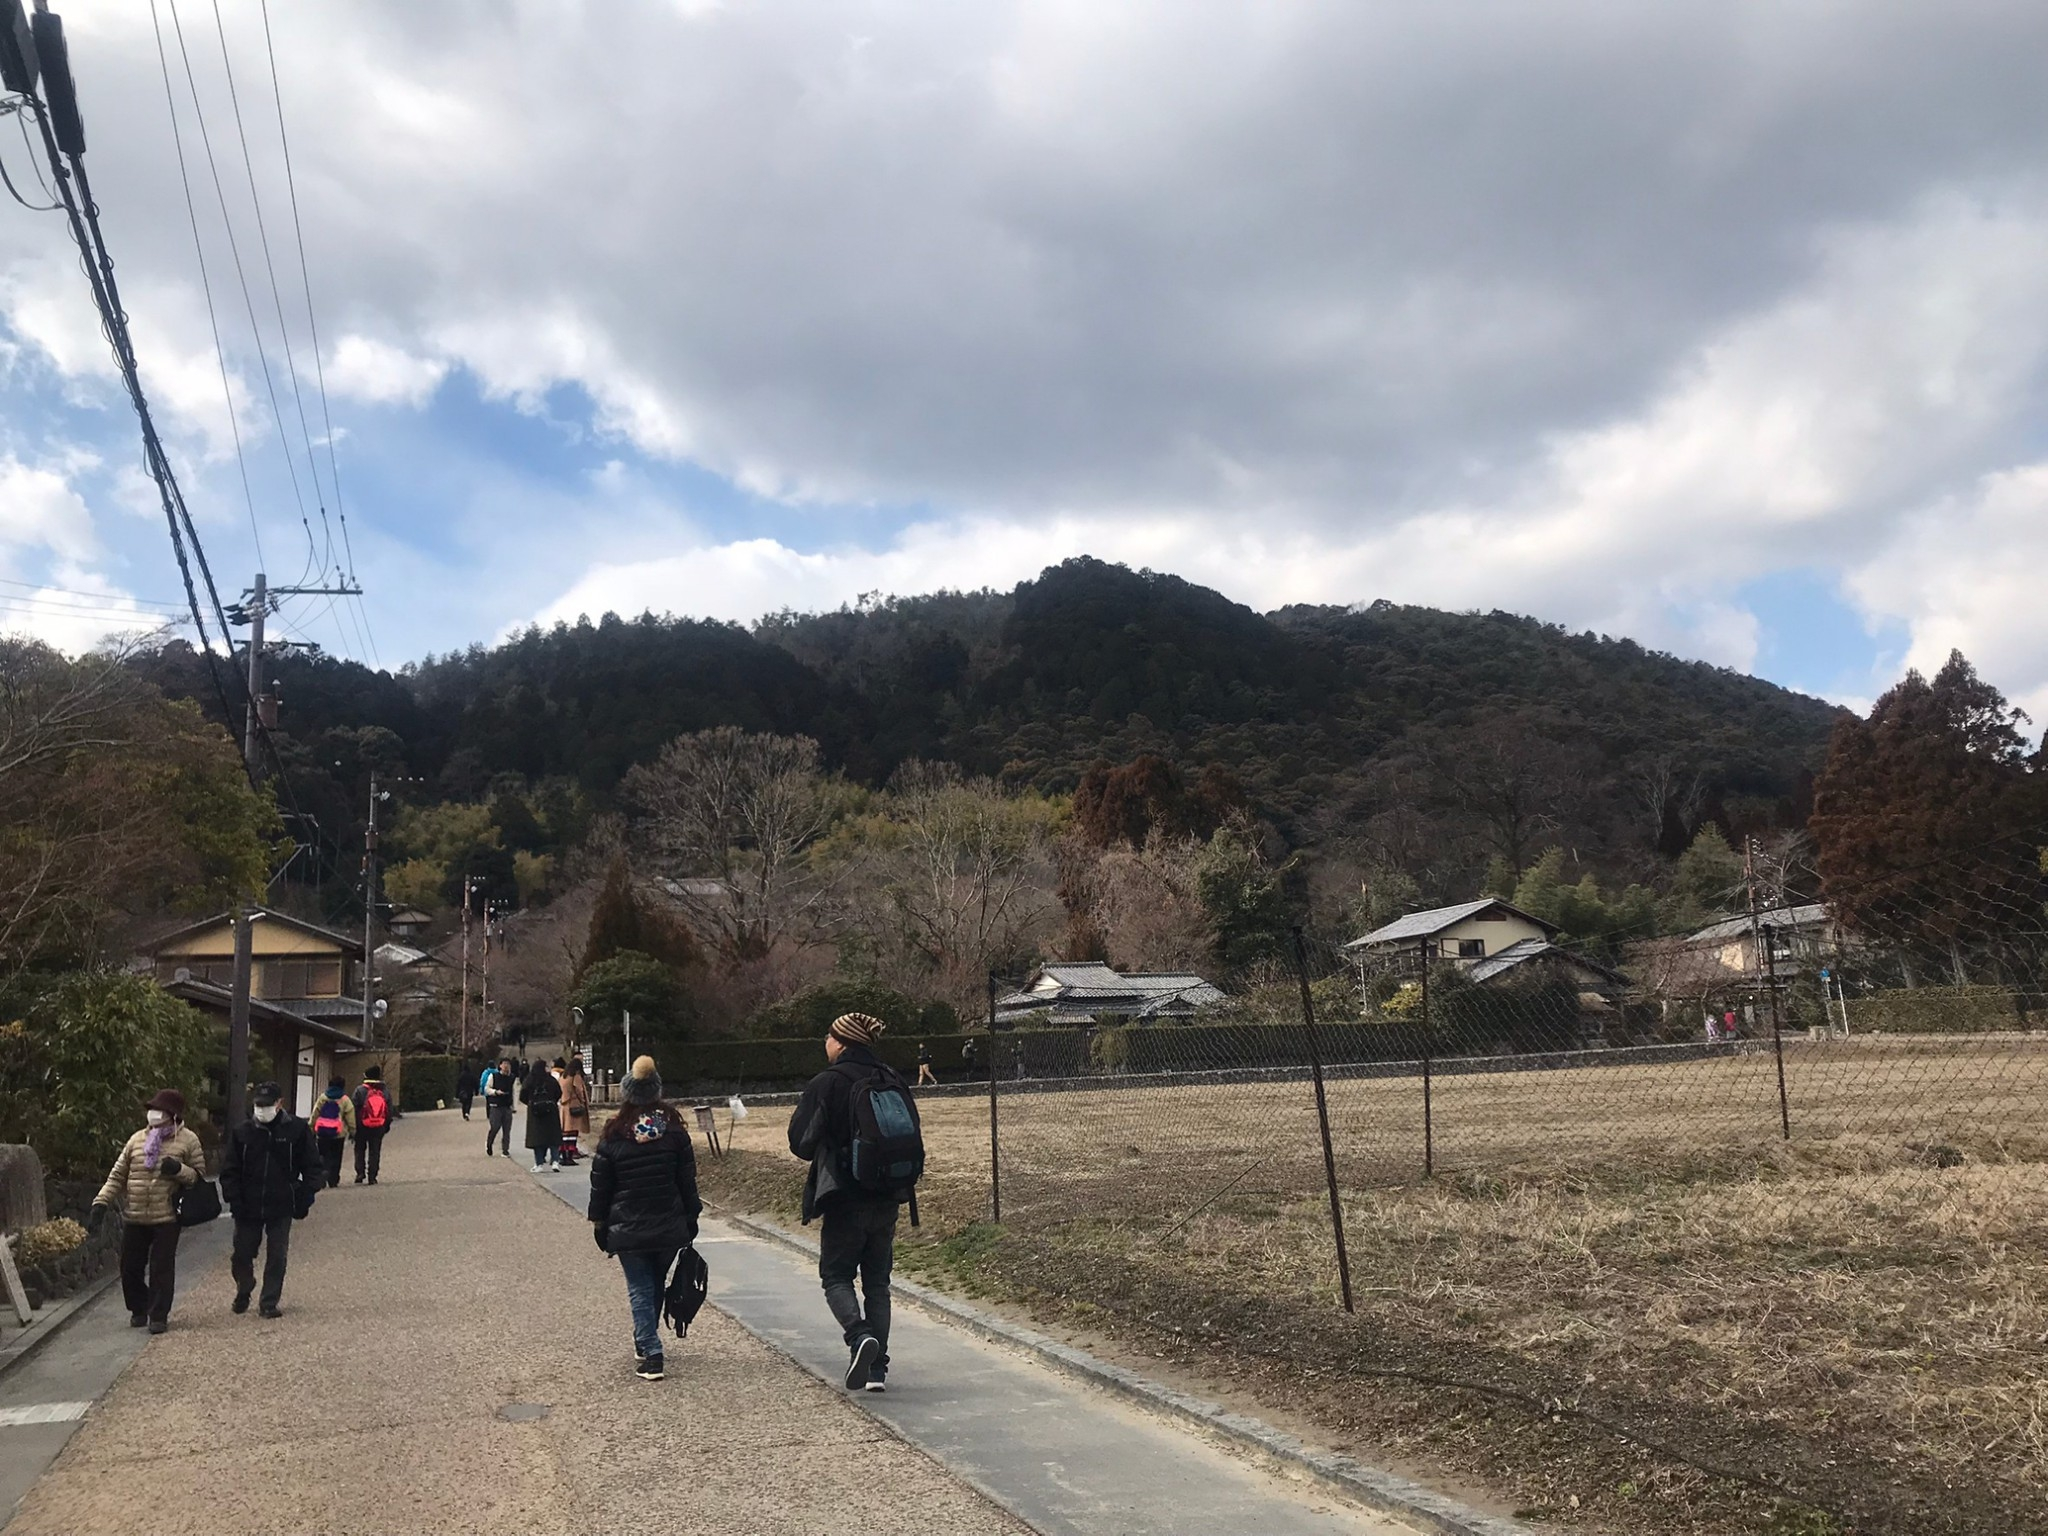people: (602, 1058, 731, 1393), (813, 1008, 904, 1413), (104, 1102, 199, 1343), (231, 1087, 319, 1343), (354, 1058, 393, 1184), (484, 1058, 522, 1166), (557, 1043, 587, 1152), (531, 1060, 557, 1169), (319, 1078, 340, 1184)
